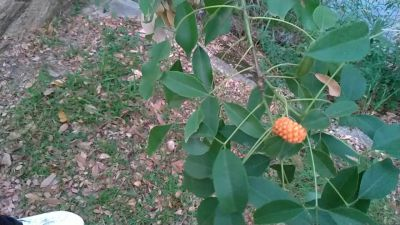eggs: (271, 114, 307, 146)
